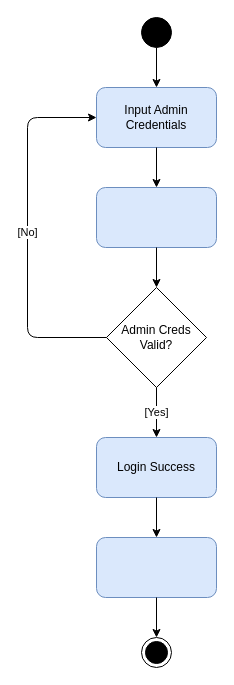
This 234x685 diagram has some shape labels left out. Each missing label, with the centre of its shape:
"Redirect to Admin Dashboard" belongs at (156,567).
"Submit Login" belongs at (156,217).
